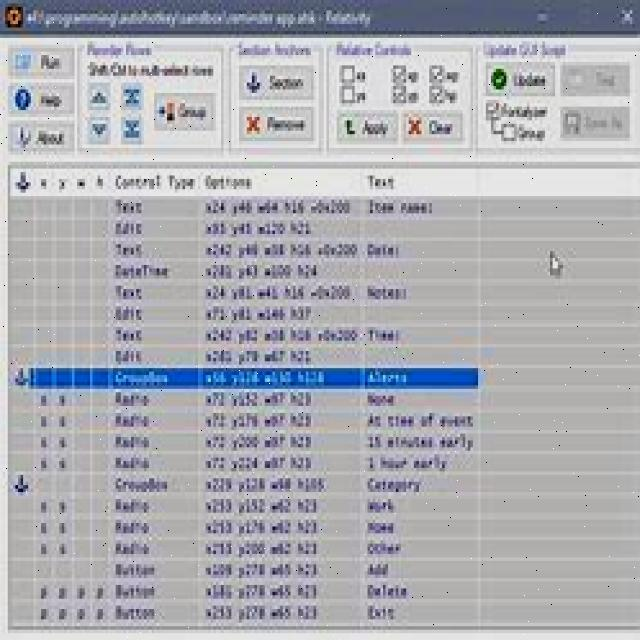button: (200, 170, 356, 198), (234, 100, 314, 141), (238, 60, 313, 101), (482, 58, 558, 97), (558, 102, 632, 141), (557, 59, 633, 96), (3, 80, 78, 116), (363, 172, 474, 196), (6, 42, 76, 80), (152, 91, 216, 129), (333, 108, 402, 142), (6, 119, 75, 151), (401, 108, 466, 141), (110, 170, 197, 194), (84, 108, 112, 144), (119, 110, 146, 144), (86, 78, 111, 111), (118, 80, 146, 108), (617, 3, 639, 34), (9, 167, 32, 195), (91, 167, 107, 196), (74, 170, 89, 198), (34, 171, 51, 195), (55, 172, 70, 196)
checkbox: (390, 64, 408, 85), (338, 84, 356, 105), (338, 63, 356, 84), (390, 84, 408, 104), (430, 83, 446, 105), (427, 64, 446, 82)
icon: (483, 100, 551, 140), (2, 0, 25, 30)
input: (10, 197, 640, 628)
label: (26, 6, 377, 27), (85, 59, 215, 78), (332, 39, 416, 60), (480, 38, 568, 57), (83, 40, 153, 58), (236, 39, 310, 56)
